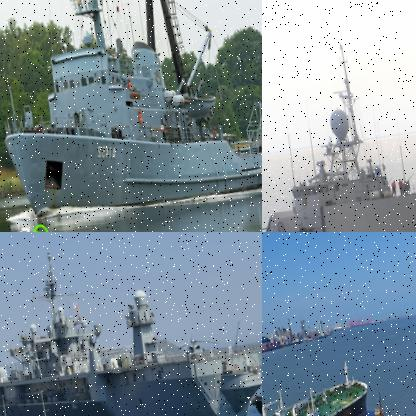Merchant Ship: (262, 357, 390, 415)
Military Ship: (0, 0, 261, 227), (0, 232, 261, 415), (262, 14, 415, 231)
Tugboat: (359, 385, 413, 415)
